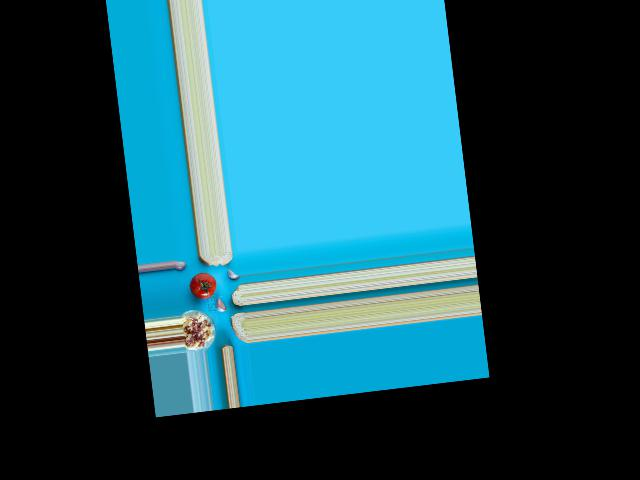tomato: (187, 271, 217, 299)
